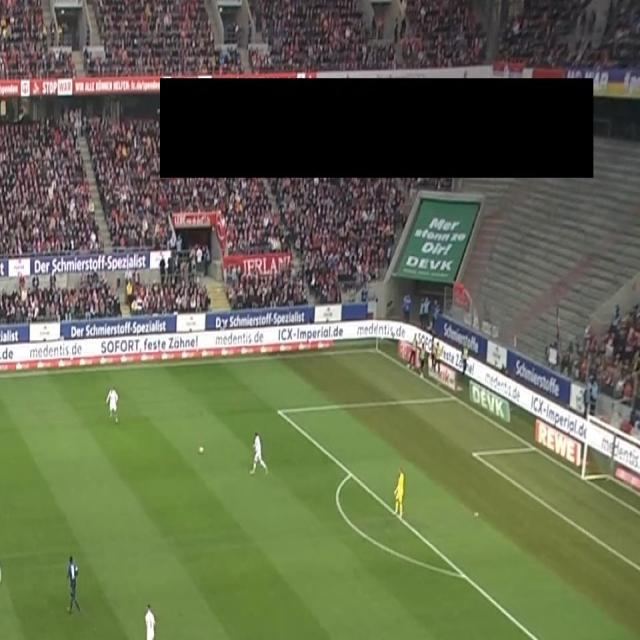ball: (197, 443, 205, 456)
